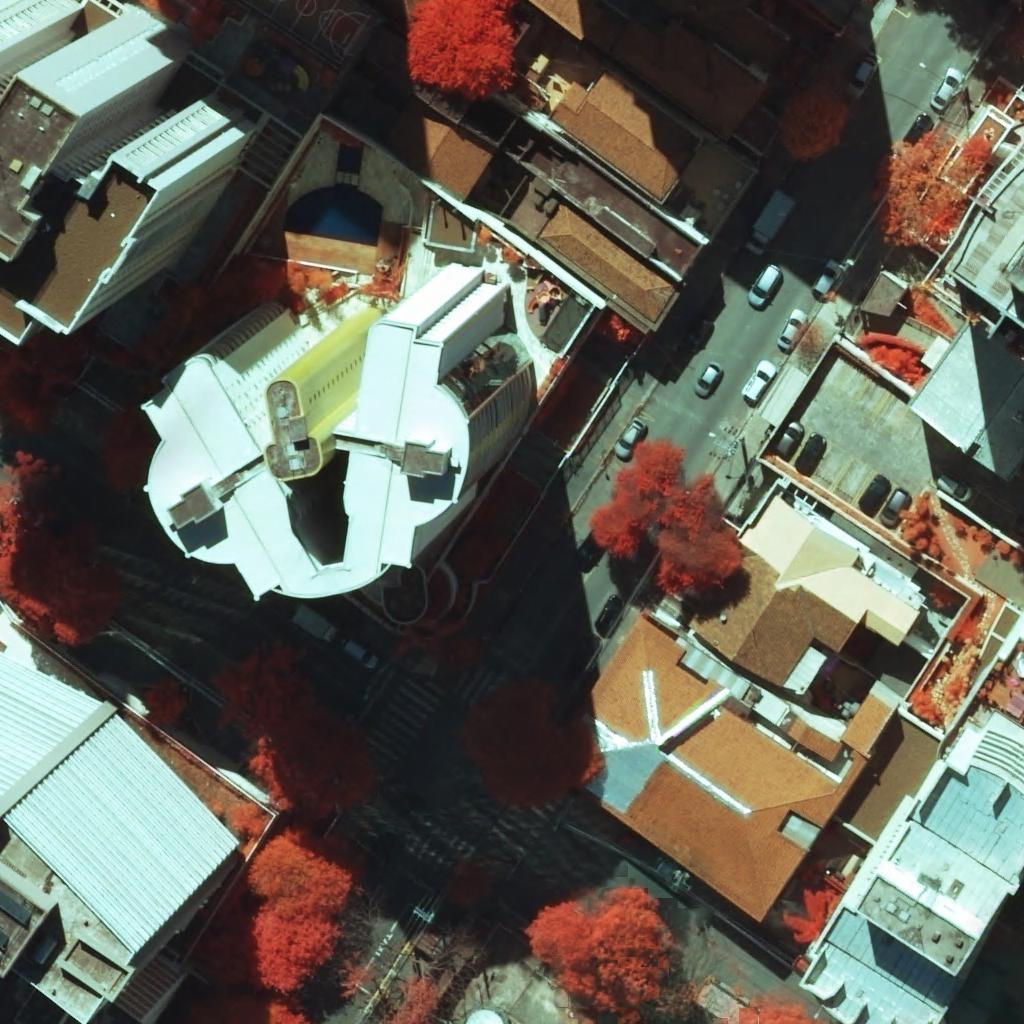pool: (283, 187, 384, 246)
